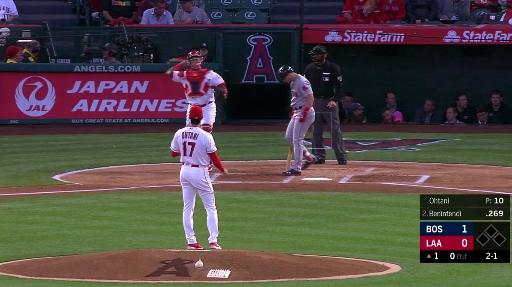pitcher: (169, 106, 231, 251)
